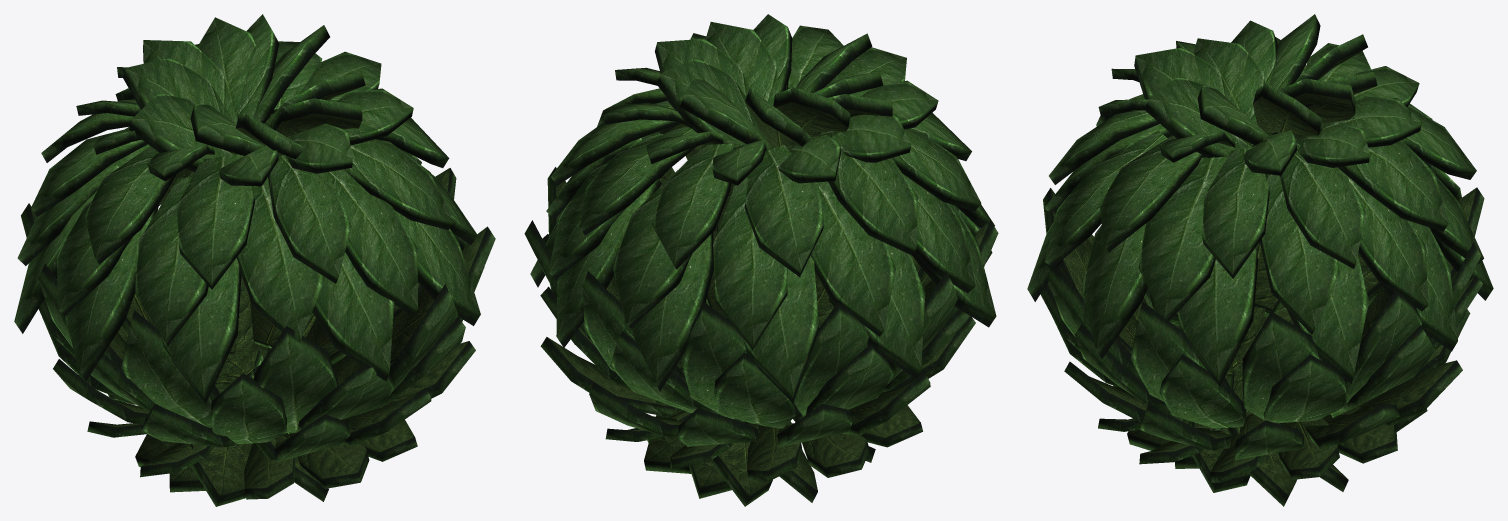
Rendered from bush.gltf.
The picture shows the model from 3 angles, left to right: view 1: azimuth 30°, elevation 25°; view 2: azimuth 150°, elevation 25°; view 3: azimuth 270°, elevation 25°; orthographic projection. The views are drawn at different scales.
Visible parts, largest first — view 1: Object_2; view 2: Object_2; view 3: Object_2.
Part boxes in pixels (x1,y1,x2,y2): Object_2: [14, 14, 495, 506]; Object_2: [524, 14, 998, 506]; Object_2: [1027, 14, 1493, 506].
Size of the model in its own units: 5 by 4.76 by 4.99.
Materials: 1 (1 with a texture image).
